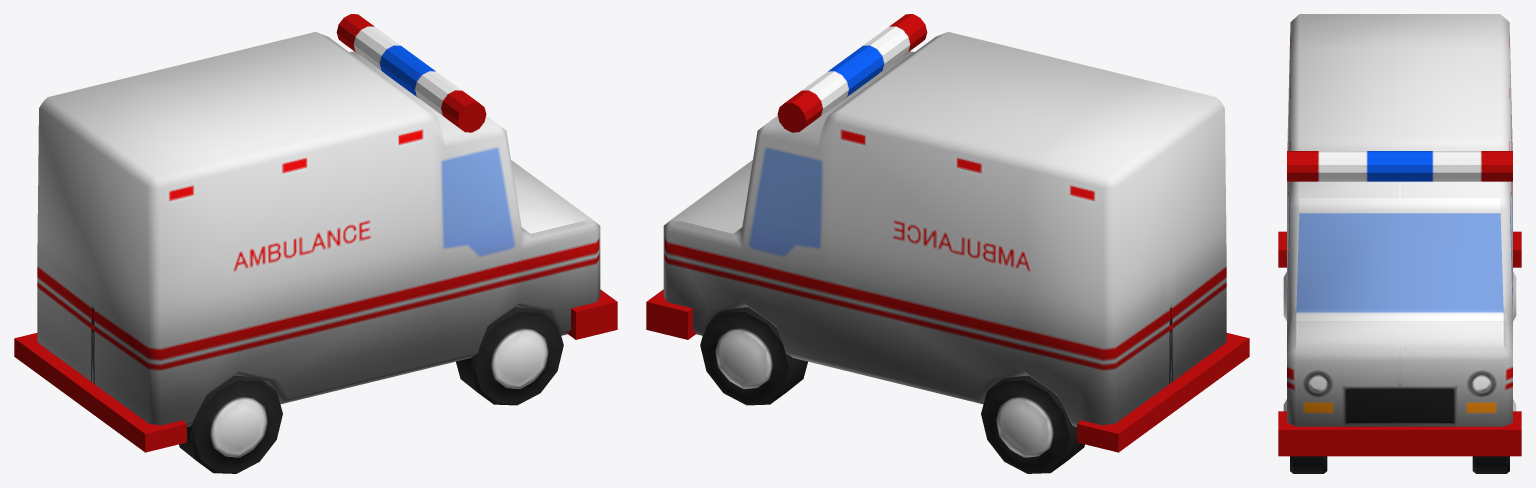
The model's file is mobil_ambulace.fbx.
3 renders of one model, left to right at view 1: azimuth 30°, elevation 25°; view 2: azimuth 150°, elevation 25°; view 3: azimuth 270°, elevation 25°, orthographic. The views are drawn at different scales.
Visible parts, largest first — view 1: ambulance; view 2: ambulance; view 3: ambulance.
Part boxes in pixels (box(x1,y1,x2,y2)): ambulance: box(14, 14, 617, 473); ambulance: box(646, 14, 1249, 473); ambulance: box(1278, 14, 1521, 473).
Bounding box in the file's own units: 30.19 × 19.37 × 14.49.
